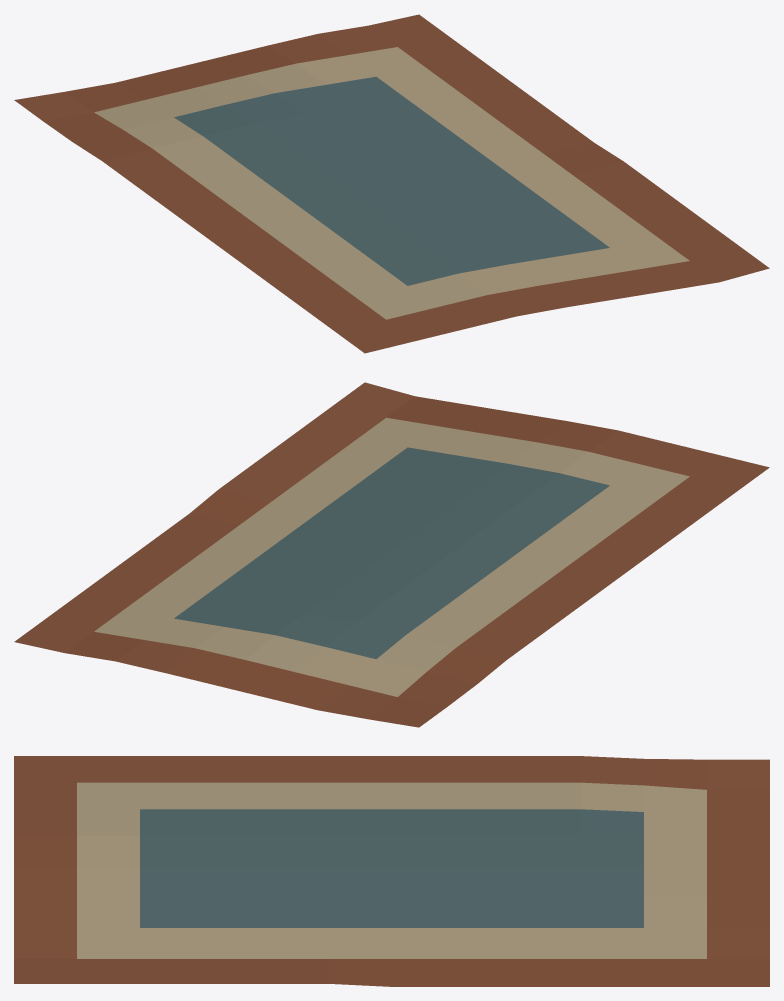
File: home_Rug_bedroom.glb
3 views of the same model, one above another, from view 1: azimuth 30°, elevation 25°; view 2: azimuth 150°, elevation 25°; view 3: azimuth 270°, elevation 25° (orthographic). The views are drawn at different scales.
Parts seen in each view (by area): view 1: home_Rug_bedroom; view 2: home_Rug_bedroom; view 3: home_Rug_bedroom.
Boxes of the visible parts, box(x1,y1,x2,y2) form: home_Rug_bedroom: box(14, 14, 769, 353); home_Rug_bedroom: box(14, 382, 769, 727); home_Rug_bedroom: box(14, 756, 769, 986).
Bounding box in the file's own units: 2 × 0.0785 × 3.
